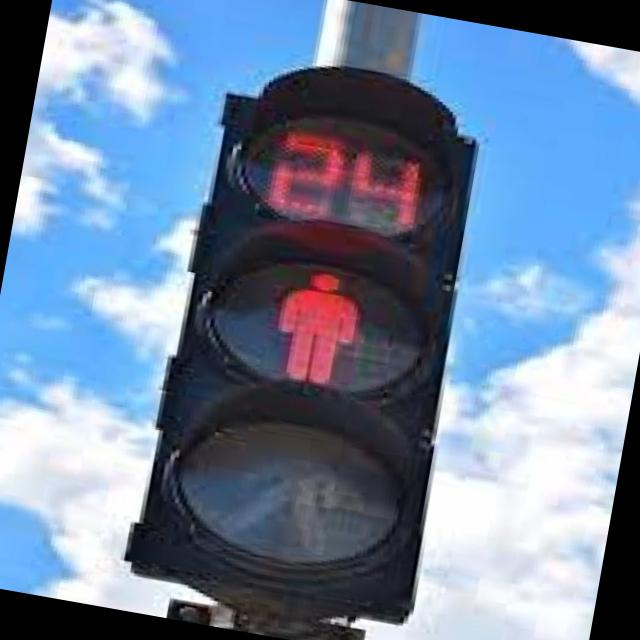red_light: (217, 100, 447, 405)
